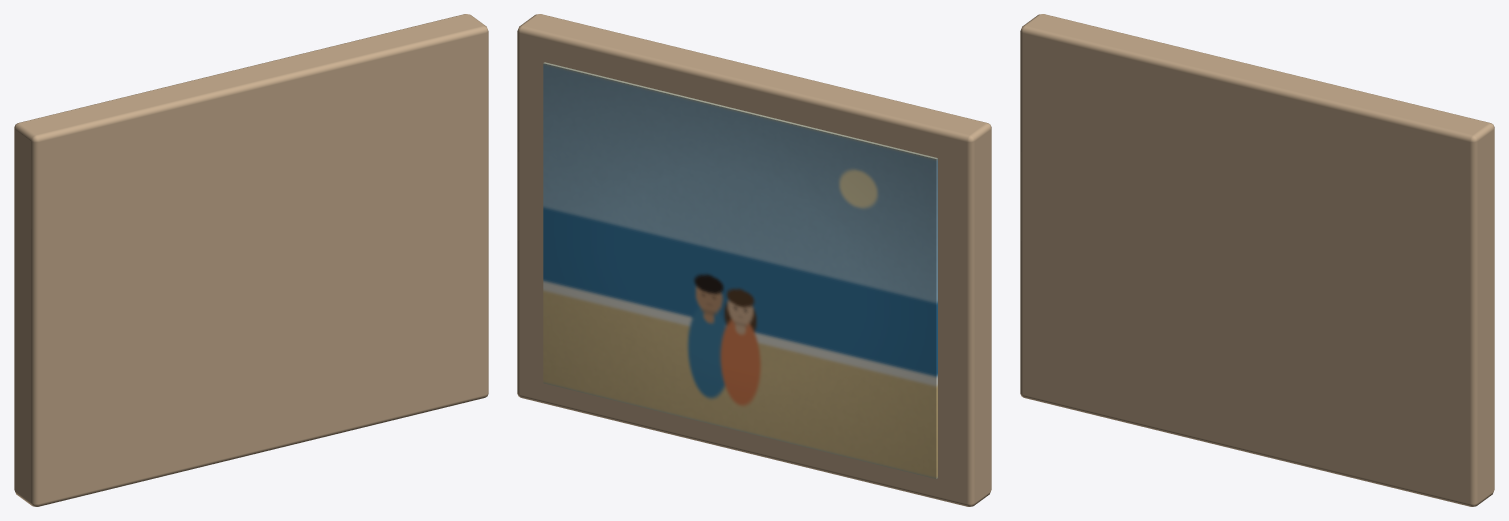
File: escena.casa.foto_viaje_pareja.fbx
3 views of the same model, side by side, from view 1: azimuth 30°, elevation 25°; view 2: azimuth 150°, elevation 25°; view 3: azimuth 330°, elevation 25° (orthographic).
Visible parts, largest first — view 1: Marco; view 2: Foto, Marco; view 3: Marco.
Boxes of the visible parts, x1=… form: Marco: x1=14, y1=14, x2=488, y2=506; Foto: x1=543, y1=62, x2=937, y2=478; Marco: x1=517, y1=14, x2=991, y2=506; Marco: x1=1020, y1=14, x2=1494, y2=506.
Size of the model in its own units: 0.36 by 0.28 by 0.035.
2 materials, 1 textured.
